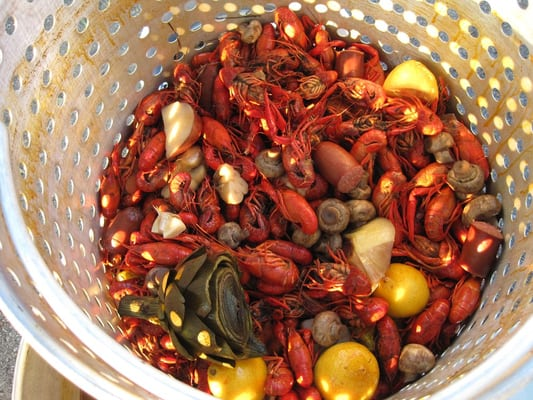sushi: (0, 1, 494, 400)
